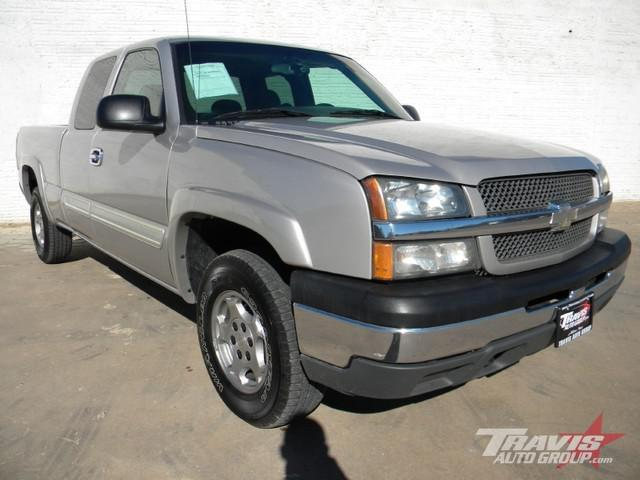Car: (14, 22, 640, 451)
